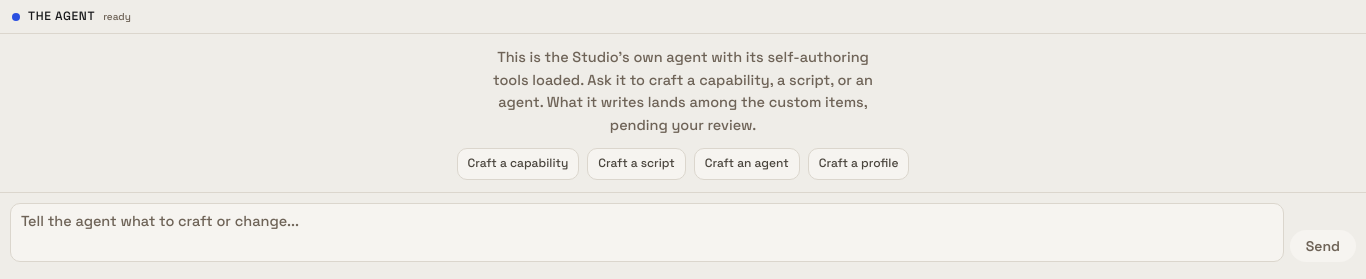
Test: <AgentConsole /> › enables Send and the starters once the read resolves with no session started yet
Type "craft me something" into the text box at (647, 232), box [10,203,1284,262]
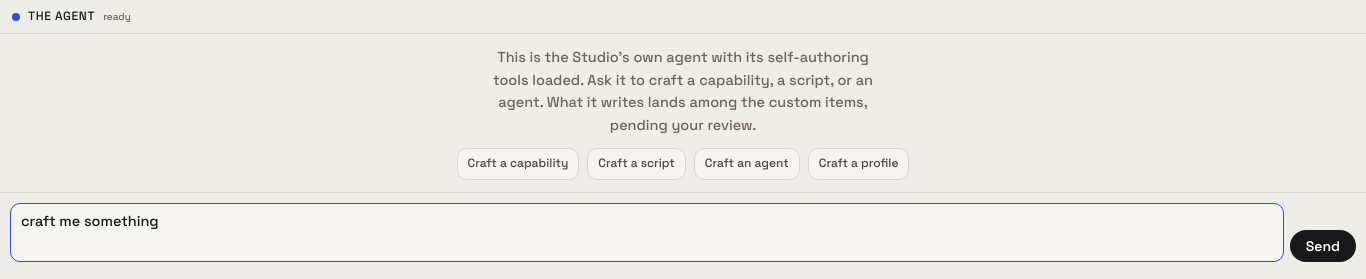
Expected: the button "Craft a capability" is enabled, [456,148,579,180]
Now the button "Send" is enabled, box [1290,230,1356,262]
